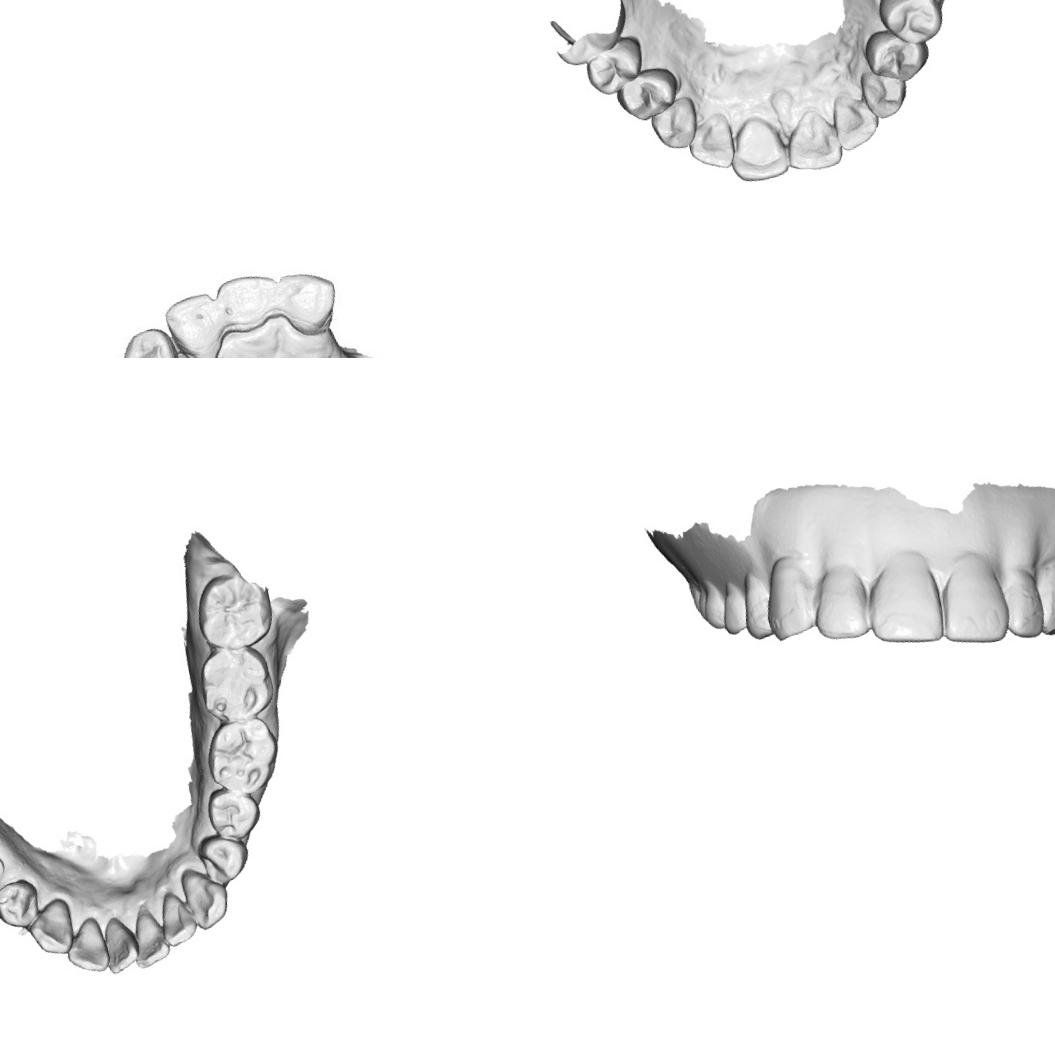canine: (756, 550, 818, 642), (176, 860, 236, 934), (22, 894, 80, 961), (645, 92, 704, 156), (856, 64, 913, 121), (113, 322, 185, 358), (1026, 553, 1055, 638)
implant_minus: (0, 849, 9, 888)
incisor: (856, 549, 948, 654), (928, 554, 1014, 655), (804, 562, 880, 647), (212, 266, 290, 340), (273, 264, 345, 344), (723, 110, 795, 186), (160, 288, 229, 358), (779, 106, 846, 175), (997, 564, 1048, 644), (826, 86, 884, 154), (683, 110, 740, 176), (59, 914, 112, 979), (124, 906, 173, 972), (152, 886, 201, 950), (98, 911, 144, 976)
molar: (188, 564, 280, 656), (192, 640, 280, 729), (198, 713, 287, 801), (695, 581, 730, 635)
premolar: (860, 20, 935, 89), (579, 34, 651, 100), (611, 62, 685, 126), (202, 781, 266, 846), (872, 0, 948, 53), (195, 829, 254, 889), (0, 876, 45, 935), (738, 572, 774, 642), (714, 580, 751, 641)
